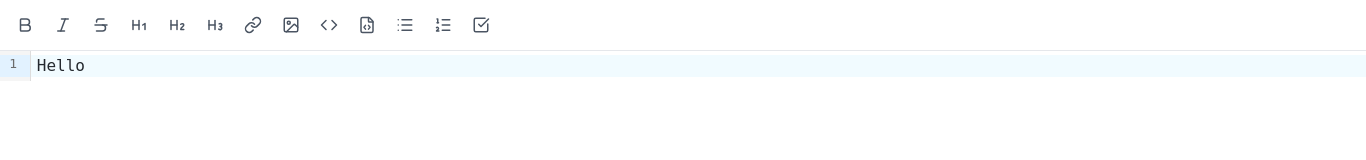
Test: EditorWithToolbar - Phase 2: 선택 영역 서식 & 토글 (통합) › 시나리오 8: 회귀 테스트 - Phase 1 기능 유지 › Phase 1 기능 (커서 위치 삽입)이 여전히 작동
Bold 클릭 (커서가 0번째 위치)
Click the button named "굵게" at (25, 25), box [8, 8, 42, 42]
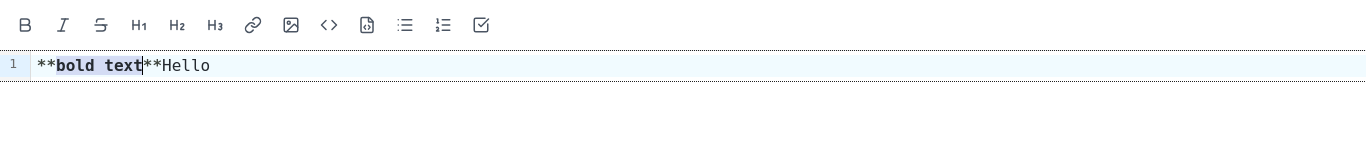
Result: the text box labelled "**bold text**Hello" is shown at [31, 55, 1365, 77]
